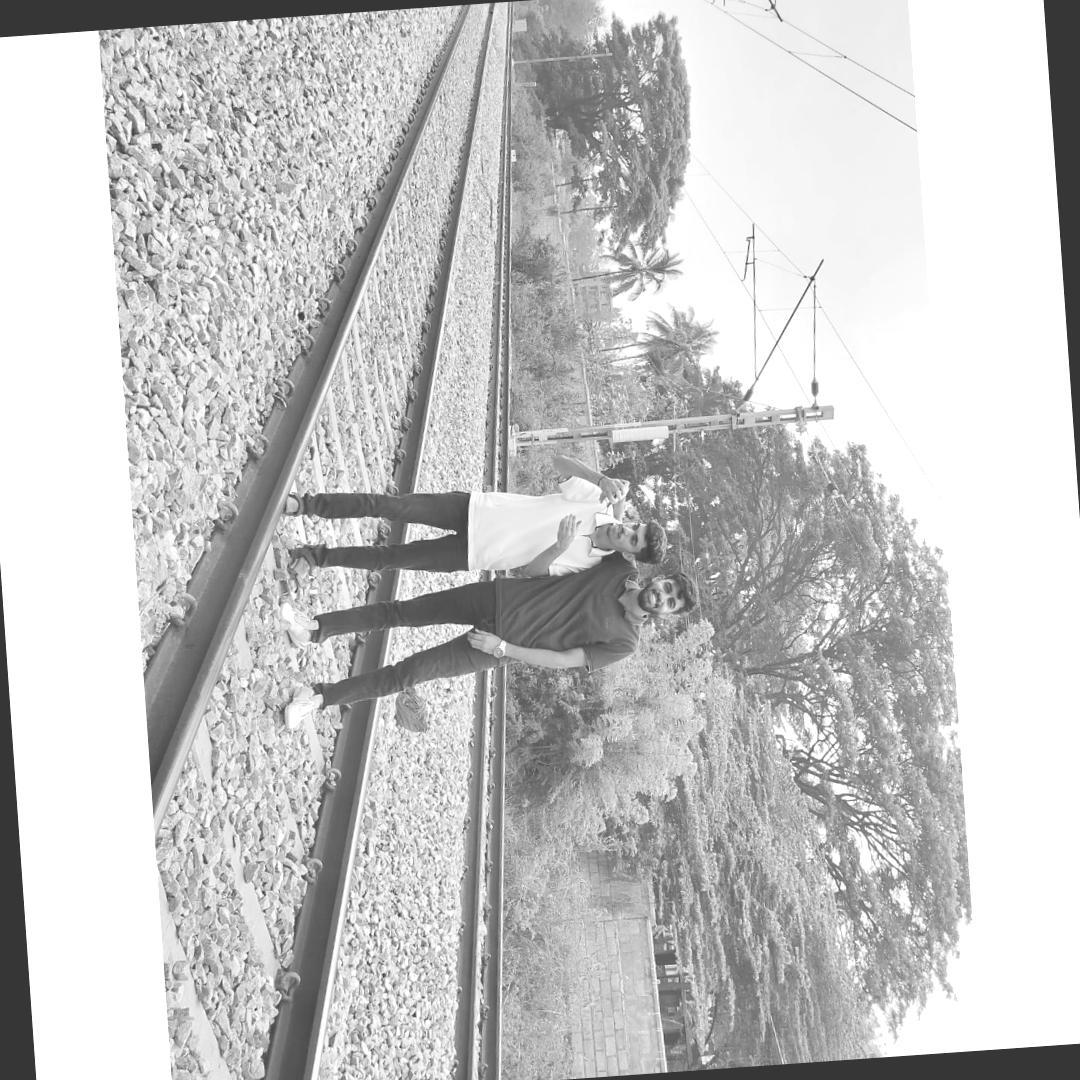standing: (275, 559, 698, 734), (282, 449, 671, 591)
track: (147, 3, 504, 1080)
